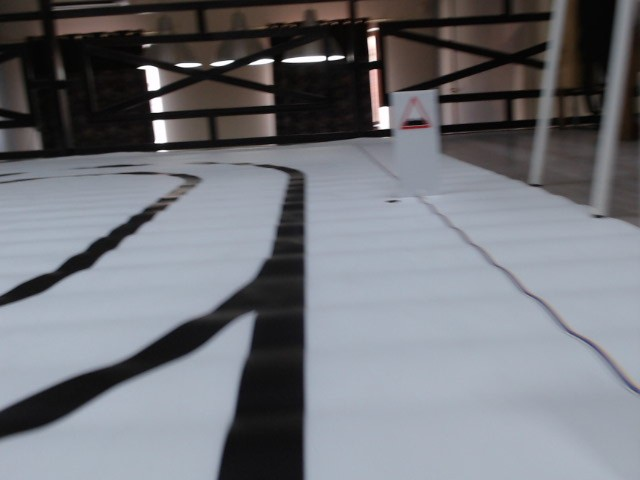Nerov: (396, 96, 432, 129)
